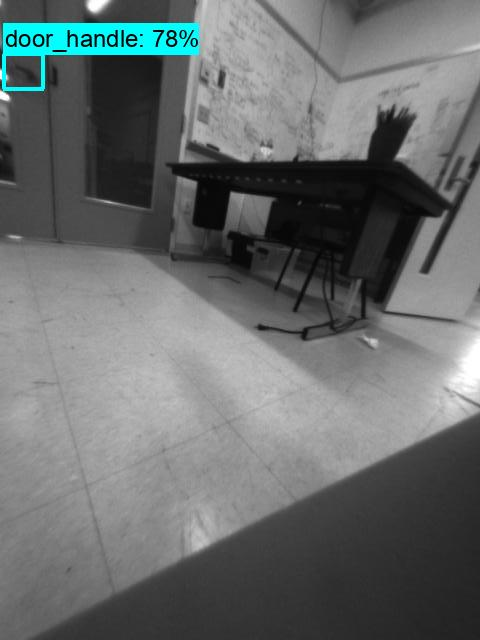door_handle: (3, 56, 43, 86)
